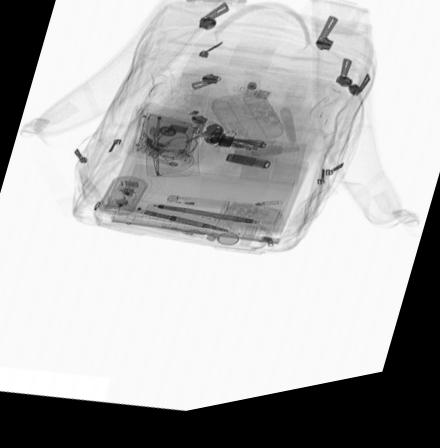Lighter: (167, 201, 232, 220)
